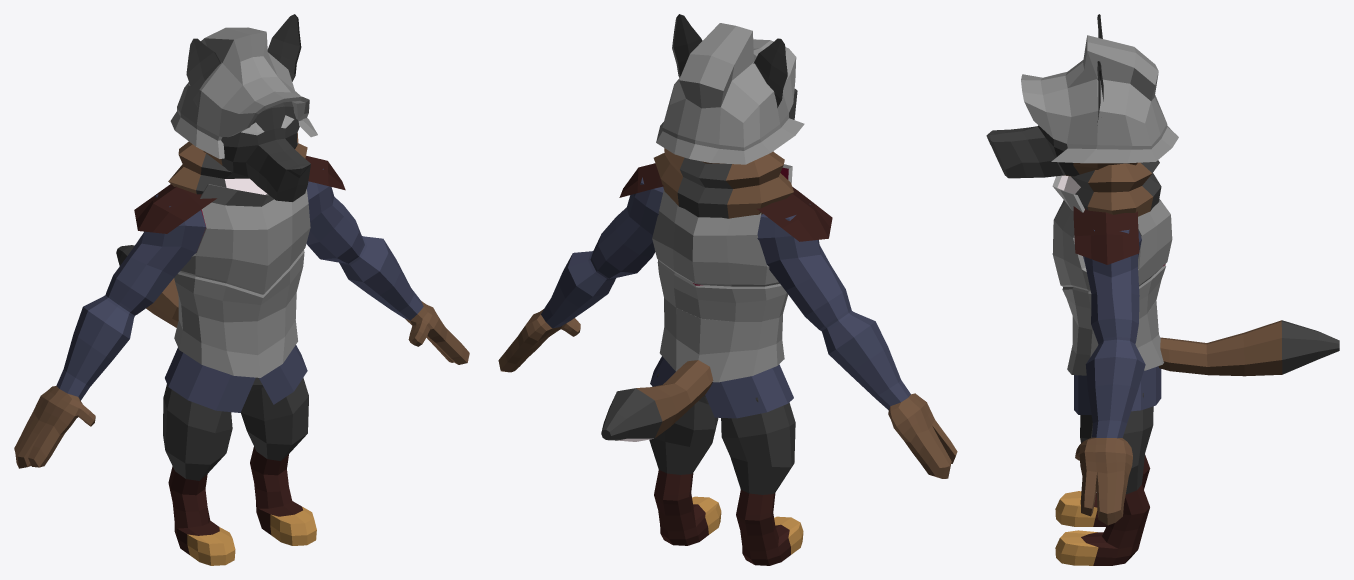
The model's file is malinois.fbx.
3 views of the same model, side by side, from view 1: azimuth 30°, elevation 25°; view 2: azimuth 150°, elevation 25°; view 3: azimuth 270°, elevation 25° (orthographic). The views are drawn at different scales.
Visible parts, largest first — view 1: Cube.001; view 2: Cube.001; view 3: Cube.001.
Part boxes in pixels (left/top/right/bottom): Cube.001: left=14, top=14, right=469, bottom=565; Cube.001: left=498, top=14, right=957, bottom=565; Cube.001: left=986, top=14, right=1339, bottom=565.
Bounding box in the file's own units: 374 × 412 × 264.
